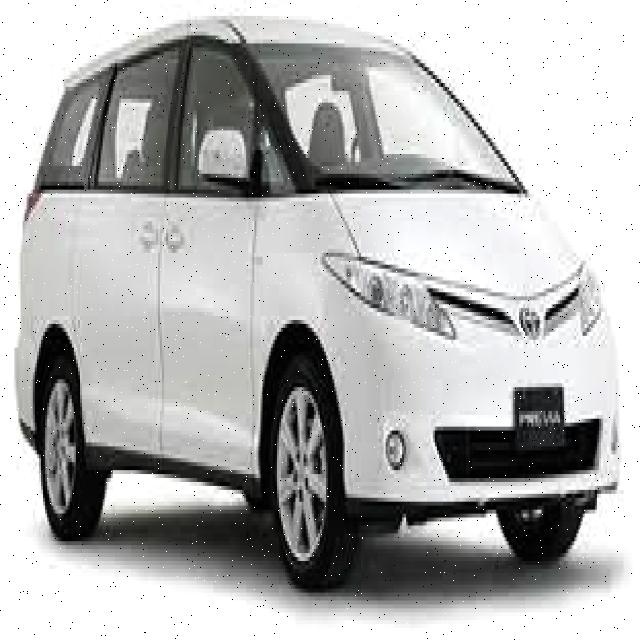Van: (22, 20, 618, 592)
